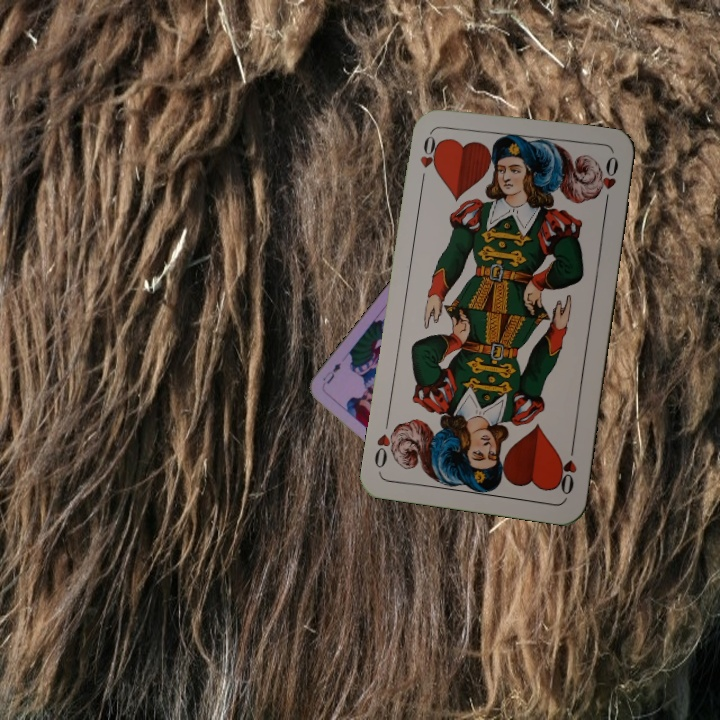HO: (553, 440, 579, 498), (416, 126, 443, 175)
